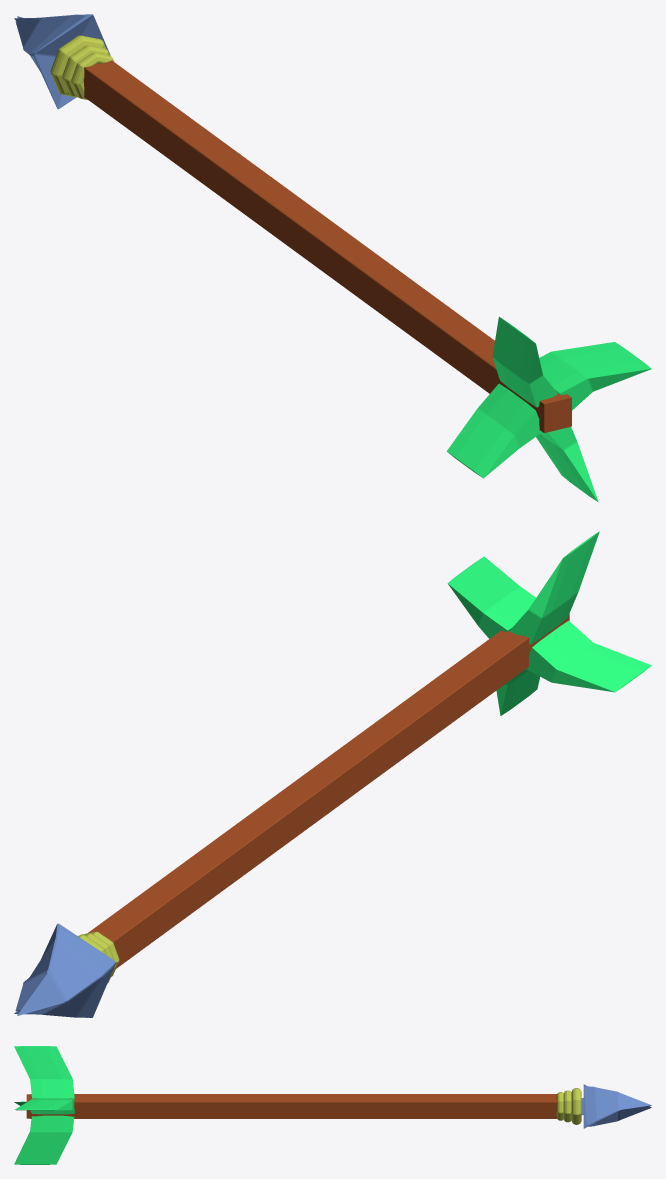
Rendered from flecha.obj.
3 views of the same model, one above another, from view 1: azimuth 30°, elevation 25°; view 2: azimuth 150°, elevation 25°; view 3: azimuth 270°, elevation 25° (orthographic). The views are drawn at different scales.
Visible parts, largest first — view 1: Cuerpo_Cube; view 2: Cuerpo_Cube; view 3: Cuerpo_Cube.
Part boxes in pixels (bbox=[...]): Cuerpo_Cube: bbox=[14, 14, 651, 502]; Cuerpo_Cube: bbox=[14, 531, 651, 1017]; Cuerpo_Cube: bbox=[14, 1046, 651, 1164].
Bounding box in the file's own units: 2.41 × 2.38 × 13.62.
